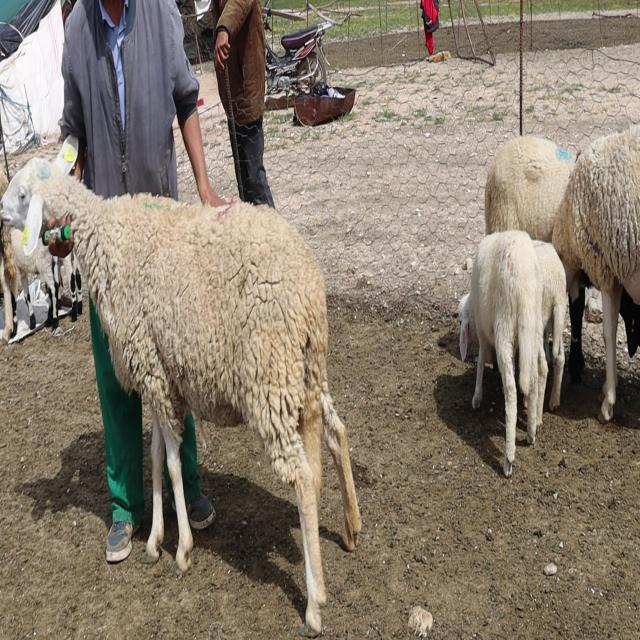Score_2: (0, 135, 361, 636)
